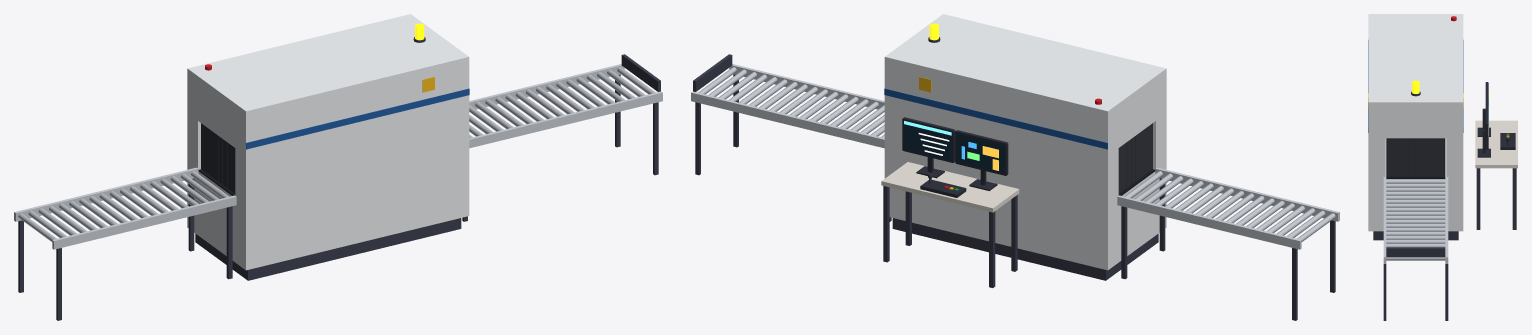
The model's file is air-028.glb.
3 renders of one model, left to right at view 1: azimuth 30°, elevation 25°; view 2: azimuth 150°, elevation 25°; view 3: azimuth 270°, elevation 25°, orthographic. The views are drawn at different scales.
Visible parts, largest first — view 1: white, stainless, counter_panel, dark_steel, lead_curtain, airline_blue; view 2: white, stainless, dark_steel, counter_panel, laminate, monitor_screen, plastic_dark, lead_curtain, airline_blue; view 3: white, stainless, lead_curtain, dark_steel, laminate, plastic_dark, counter_panel, conveyor_belt, airline_blue.
Boxes of the visible parts, x1,y1,x2,y2 form: white: [187, 14, 469, 270]; stainless: [18, 67, 655, 241]; counter_panel: [14, 64, 662, 249]; dark_steel: [18, 37, 660, 320]; lead_curtain: [201, 123, 235, 193]; airline_blue: [246, 88, 469, 149]; white: [884, 14, 1166, 270]; stainless: [698, 67, 1335, 241]; dark_steel: [693, 37, 1335, 320]; counter_panel: [691, 64, 1339, 249]; laminate: [881, 162, 1019, 212]; monitor_screen: [904, 120, 1004, 173]; plastic_dark: [902, 117, 1008, 197]; lead_curtain: [1118, 123, 1152, 193]; airline_blue: [884, 88, 1107, 149]; white: [1368, 14, 1463, 231]; stainless: [1386, 179, 1445, 260]; lead_curtain: [1387, 138, 1444, 176]; dark_steel: [1373, 91, 1516, 320]; laminate: [1475, 120, 1517, 168]; plastic_dark: [1477, 82, 1515, 157]; counter_panel: [1383, 177, 1448, 263]; conveyor_belt: [1386, 138, 1445, 178]; airline_blue: [1368, 40, 1463, 132].
Size of the model in its own units: 6 by 1.77 by 1.58.
